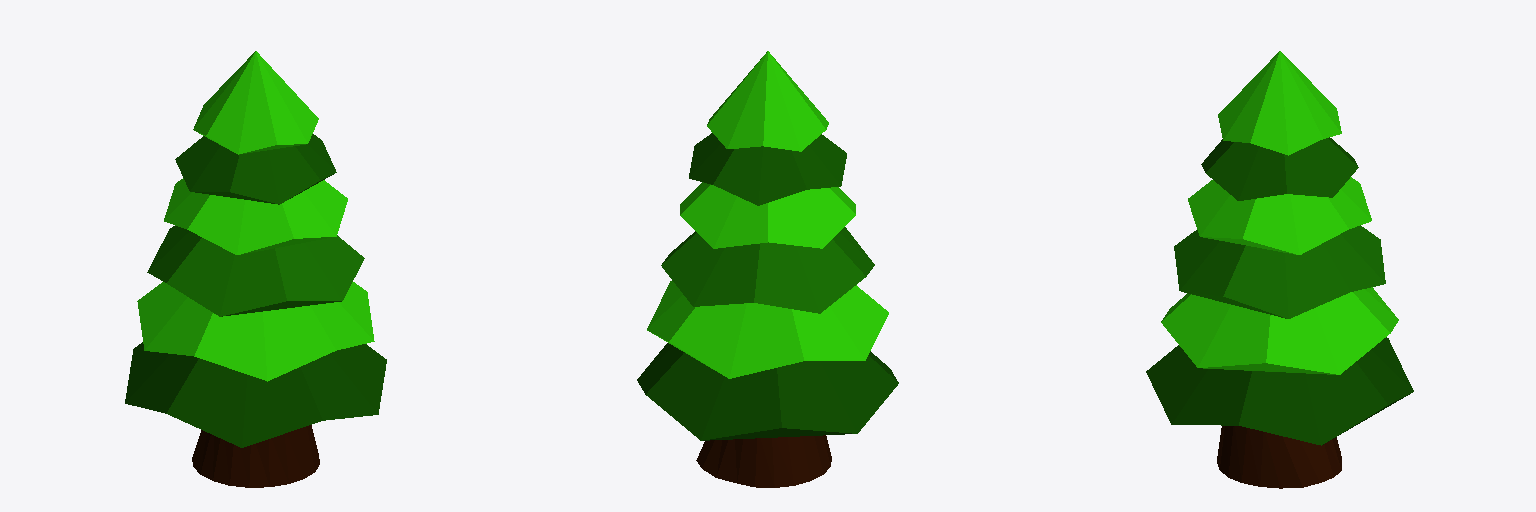
The model's file is pinetree.obj.
3 renders of one model, left to right at view 1: azimuth 30°, elevation 25°; view 2: azimuth 150°, elevation 25°; view 3: azimuth 270°, elevation 25°, orthographic.
Visible parts, largest first — view 1: Cone.004_Cone.005; view 2: Cone.004_Cone.005; view 3: Cone.004_Cone.005.
Boxes of the visible parts, <box> form: Cone.004_Cone.005: <box>125,51,386,487</box>; Cone.004_Cone.005: <box>637,51,898,487</box>; Cone.004_Cone.005: <box>1146,51,1413,488</box>.
Size of the model in its own units: 5.25 by 9.33 by 5.52.